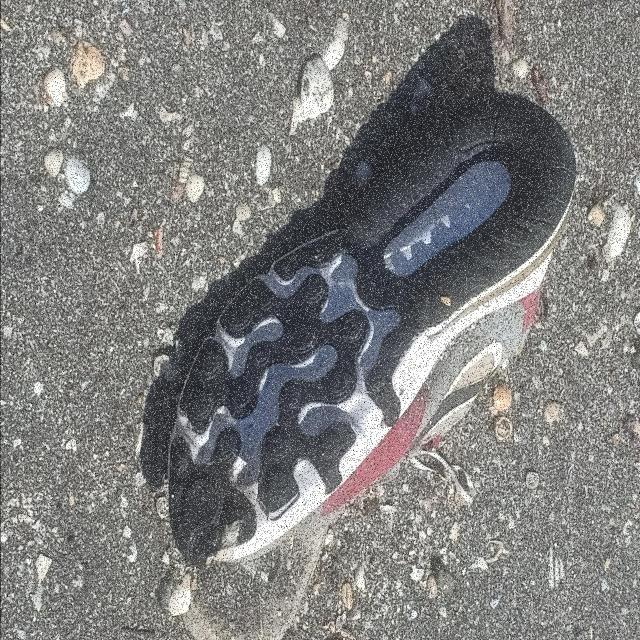rubber_waste: (169, 94, 577, 564)
